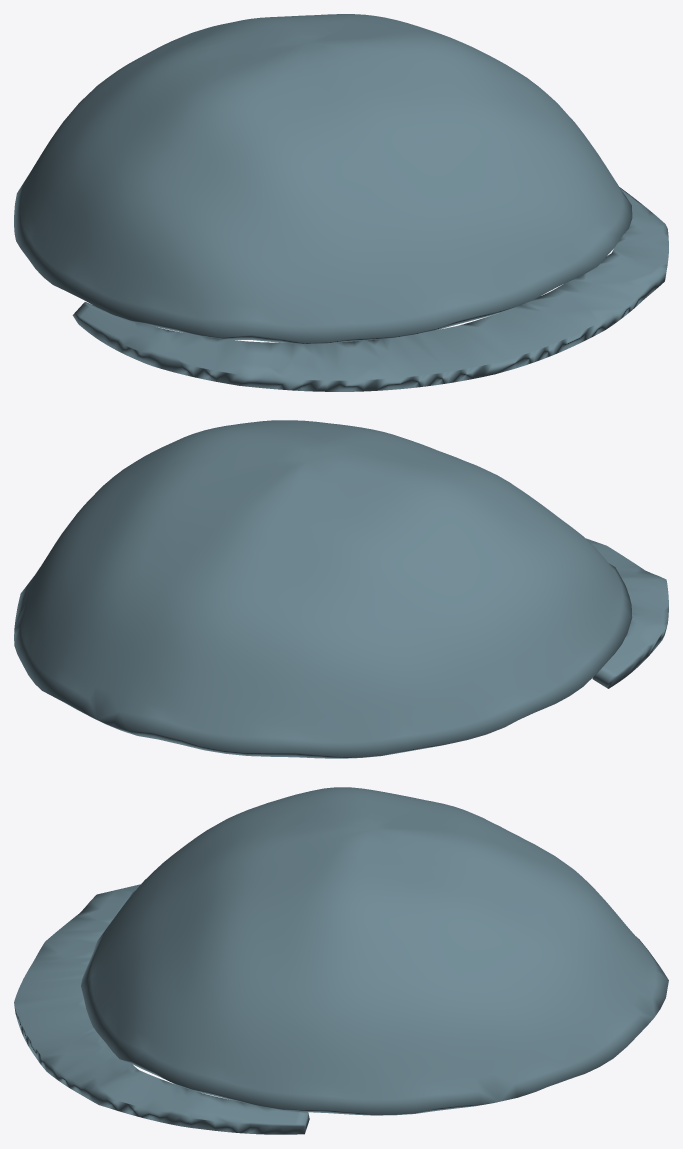
The model's file is 2HT-masculino.glb.
3 views of the same model, one above another, from view 1: azimuth 30°, elevation 25°; view 2: azimuth 150°, elevation 25°; view 3: azimuth 270°, elevation 25° (orthographic). The views are drawn at different scales.
Parts seen in each view (by area): view 1: crown, shaped-brim; view 2: crown, shaped-brim; view 3: crown, shaped-brim.
Boxes of the visible parts, left/top/right/bottom form: crown: left=14, top=14, right=632, bottom=343; shaped-brim: left=72, top=187, right=668, bottom=391; crown: left=14, top=420, right=632, bottom=758; shaped-brim: left=586, top=538, right=668, bottom=688; crown: left=81, top=787, right=668, bottom=1115; shaped-brim: left=14, top=884, right=309, bottom=1134.
Size of the model in its own units: 0.0652 by 0.0226 by 0.0715.
